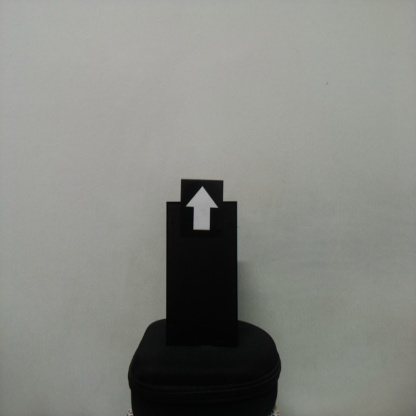id_1: (180, 180, 224, 243)
